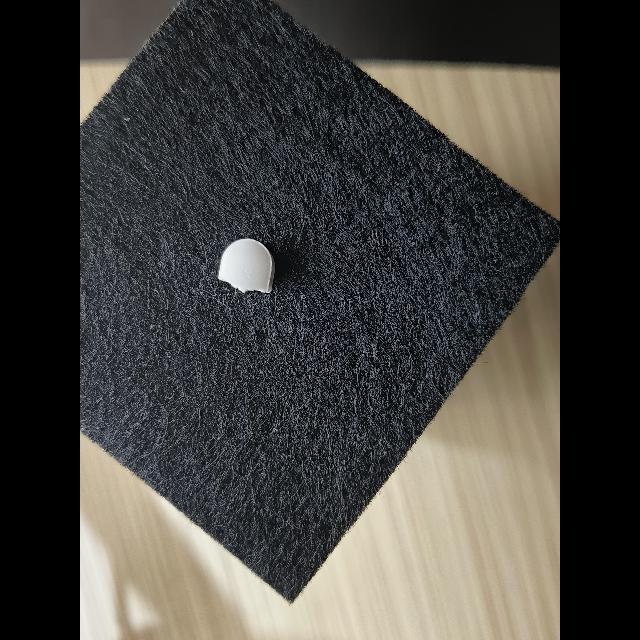Chipped Pill: (218, 238, 275, 293)
